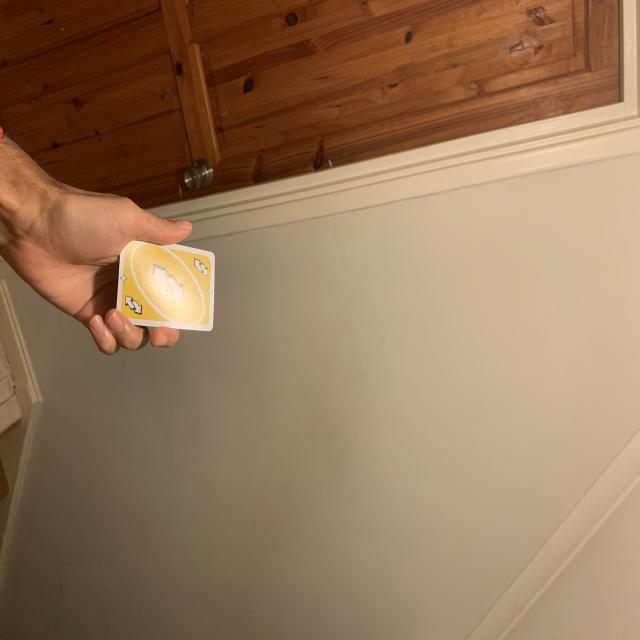lyellowrevers-20: (122, 290, 145, 319)
